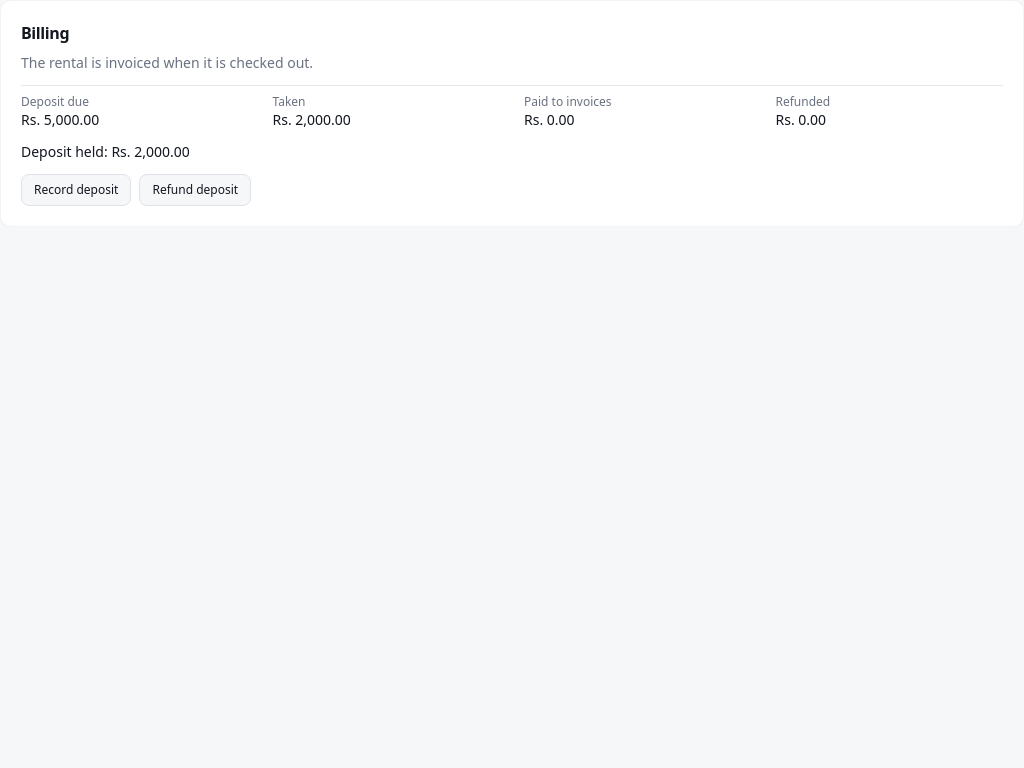
Scenario: Rental billing › records the deposit still due, and no more
The width and height of the screenshot is (1024, 768).
Later steps or results of the test are not shown.
Expected: the text "The rental is invoiced when it is checked out." is shown, x1=21 y1=53 x2=313 y2=72
Click the button "Record deposit". click: (76, 190)
box: x1=21 y1=174 x2=131 y2=206
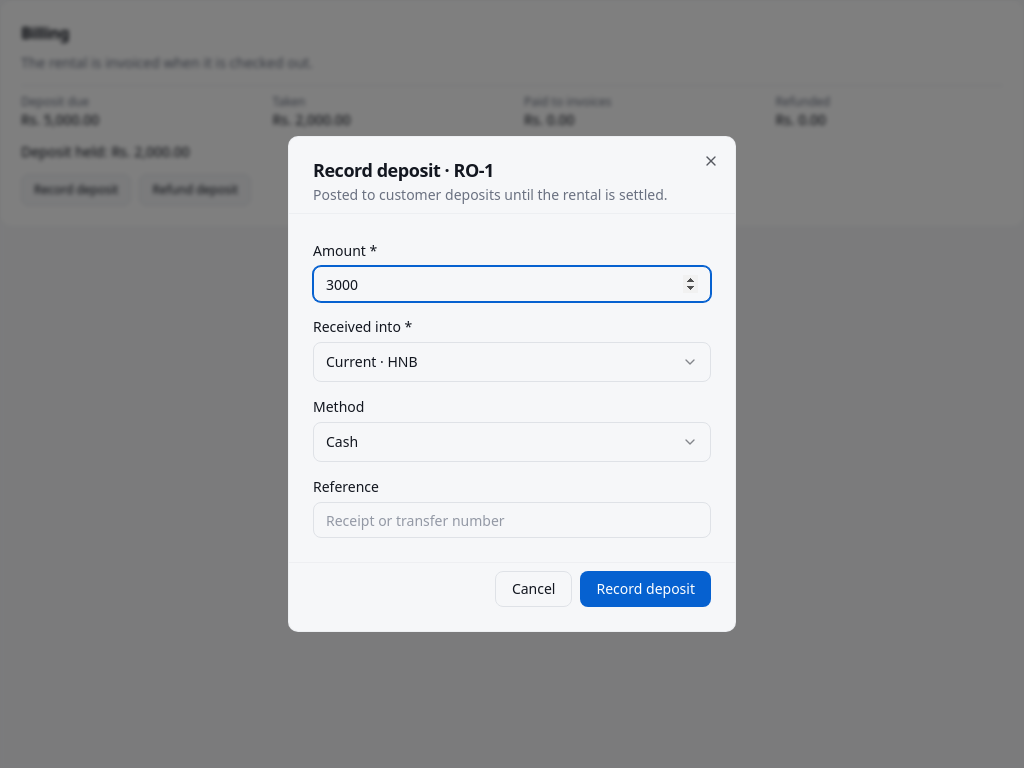
Now the number field labelled "Amount *" holds "3000"
Replace the text in the number field labelled "Amount *" with "3500". click: (512, 284)
box: x1=313 y1=266 x2=711 y2=302
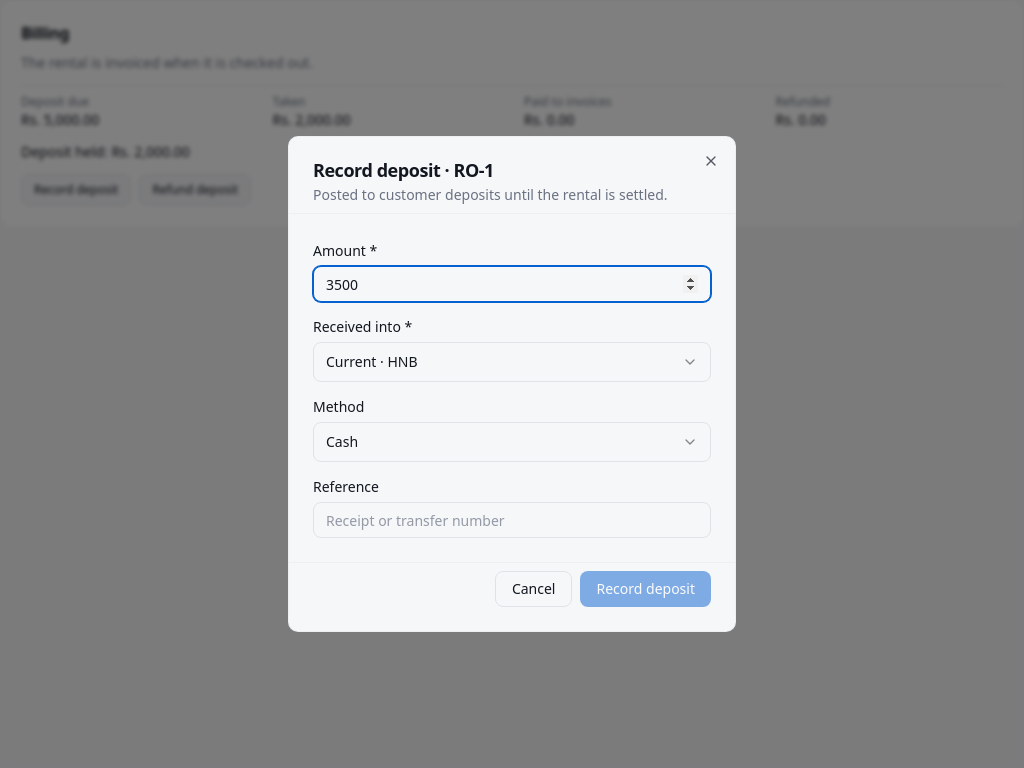
Now the button "Record deposit" is disabled, box x1=580 y1=571 x2=711 y2=607
